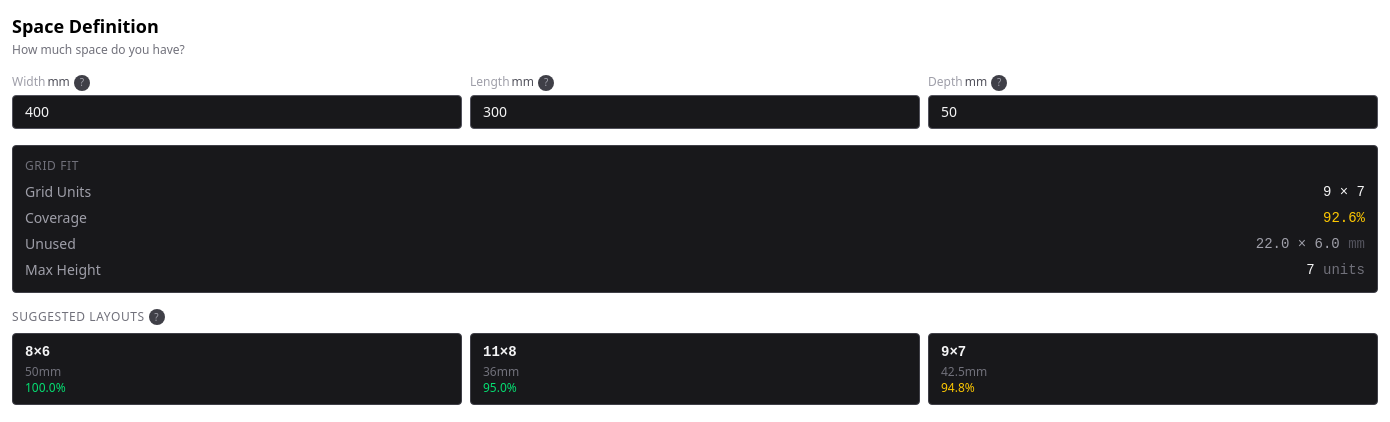
Test: SpaceConfigPanel — interactions › shows validation error for width of 0
Replace the text in the number field with id "space-width" with "0" at (237, 112), box 12,95 -> 462,129
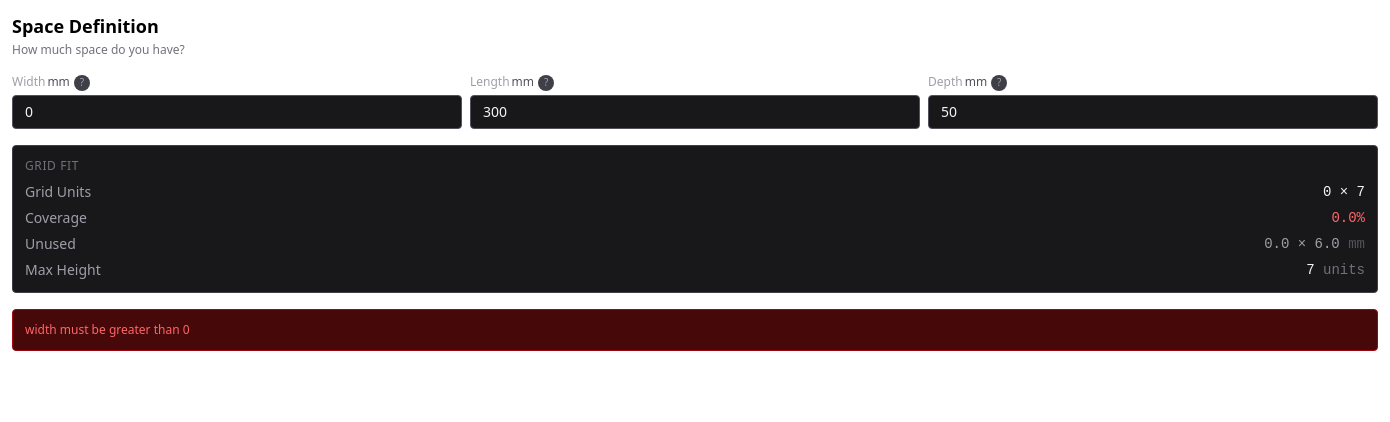
Check: the text "width must be greater than 0" is shown, box 25,321 -> 190,338
